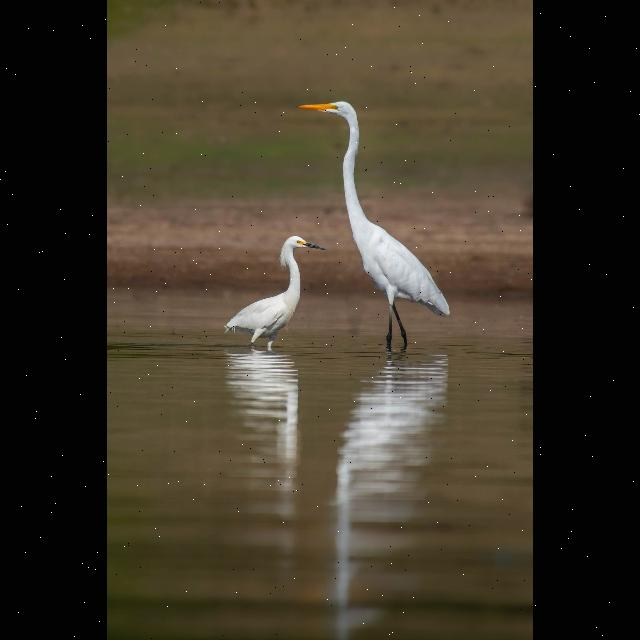egret: (296, 82, 469, 358), (218, 226, 329, 356)
